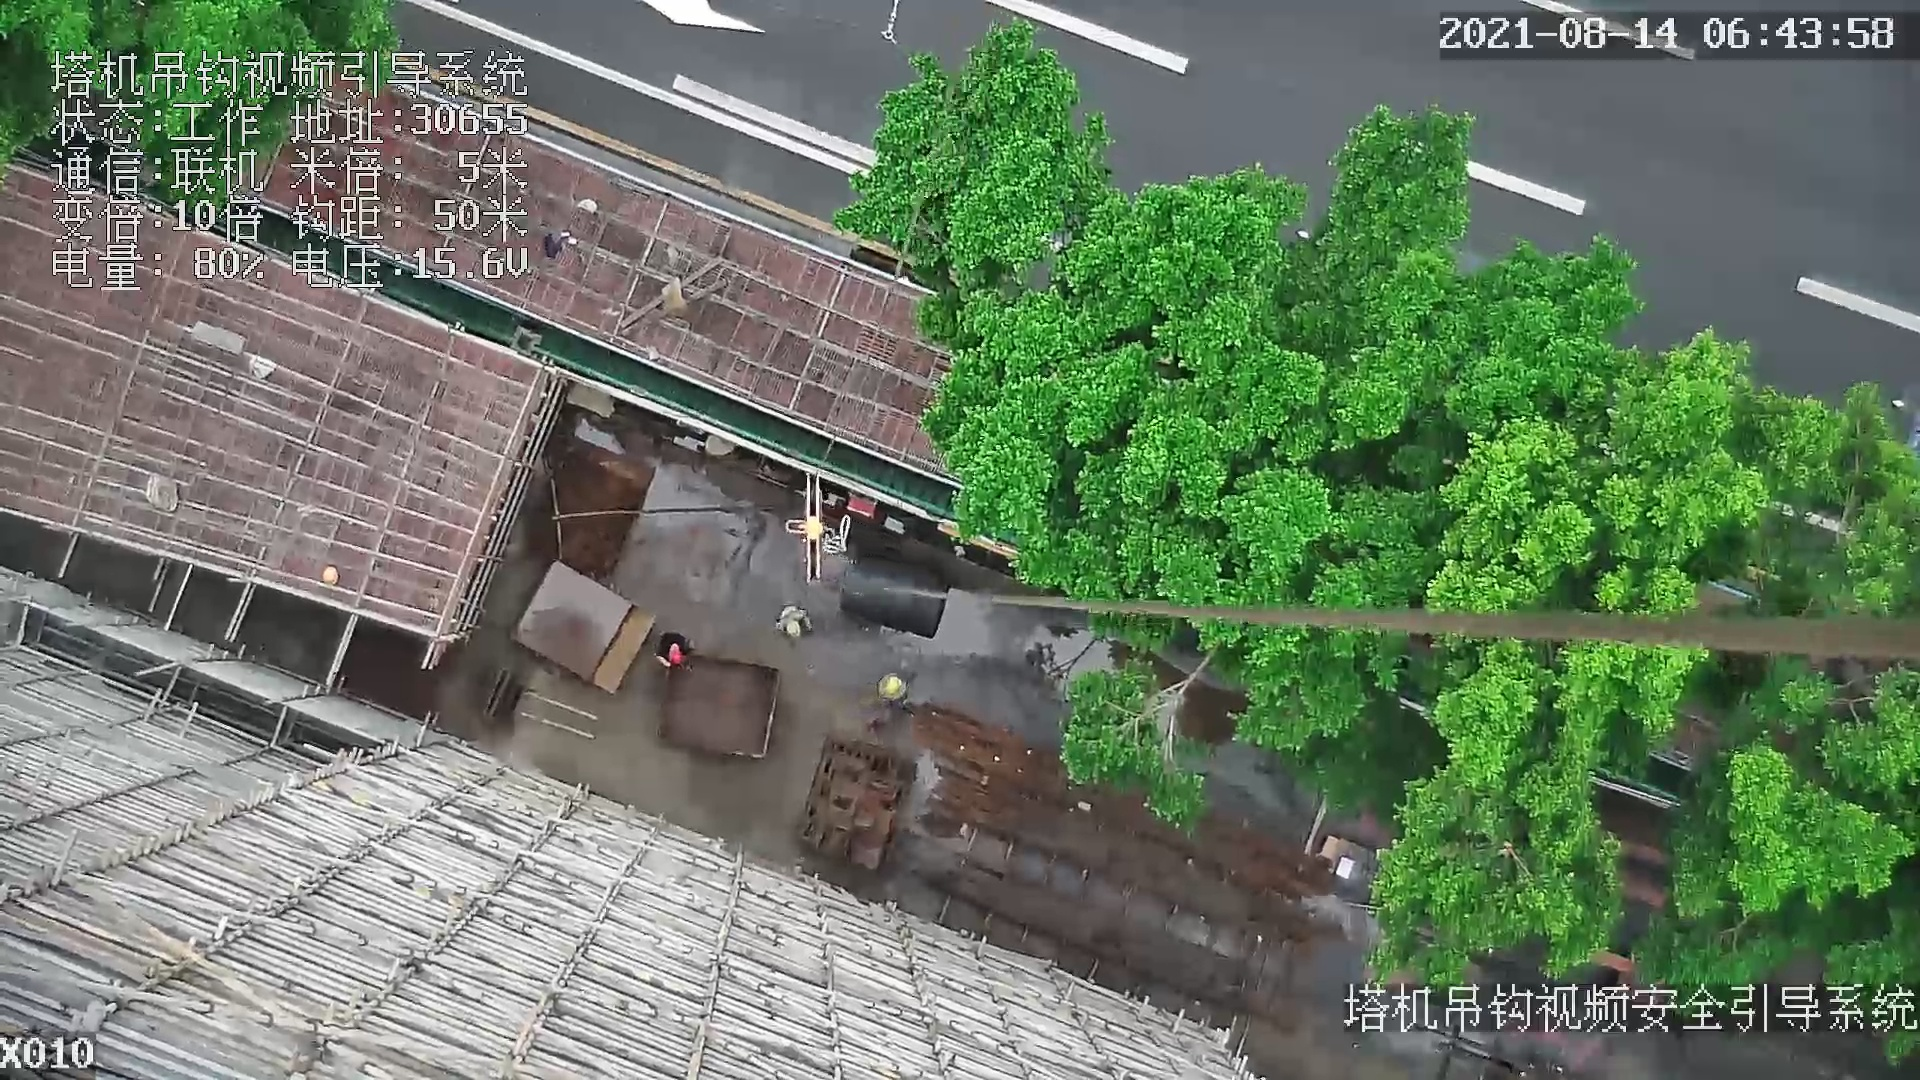helmet: (785, 621, 803, 638), (323, 566, 339, 585), (670, 650, 687, 667), (887, 677, 902, 695)
hook: (783, 471, 829, 583)
person: (867, 662, 918, 708), (771, 602, 819, 649), (654, 626, 699, 667)
